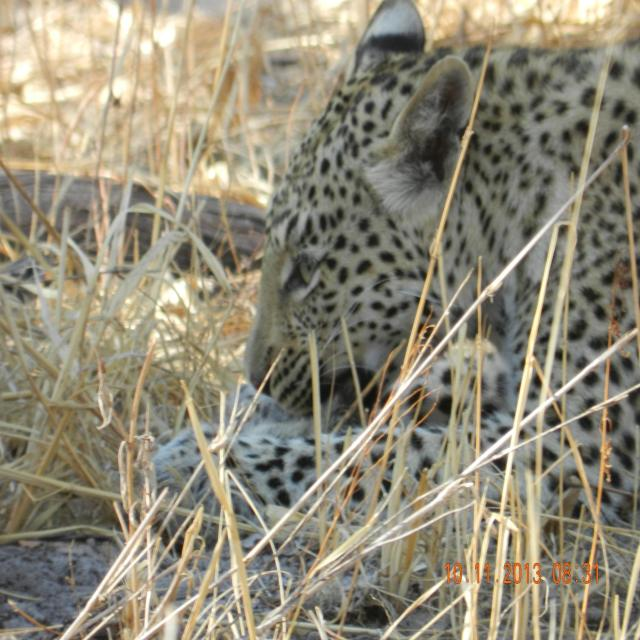Leopard: (178, 1, 640, 554)
